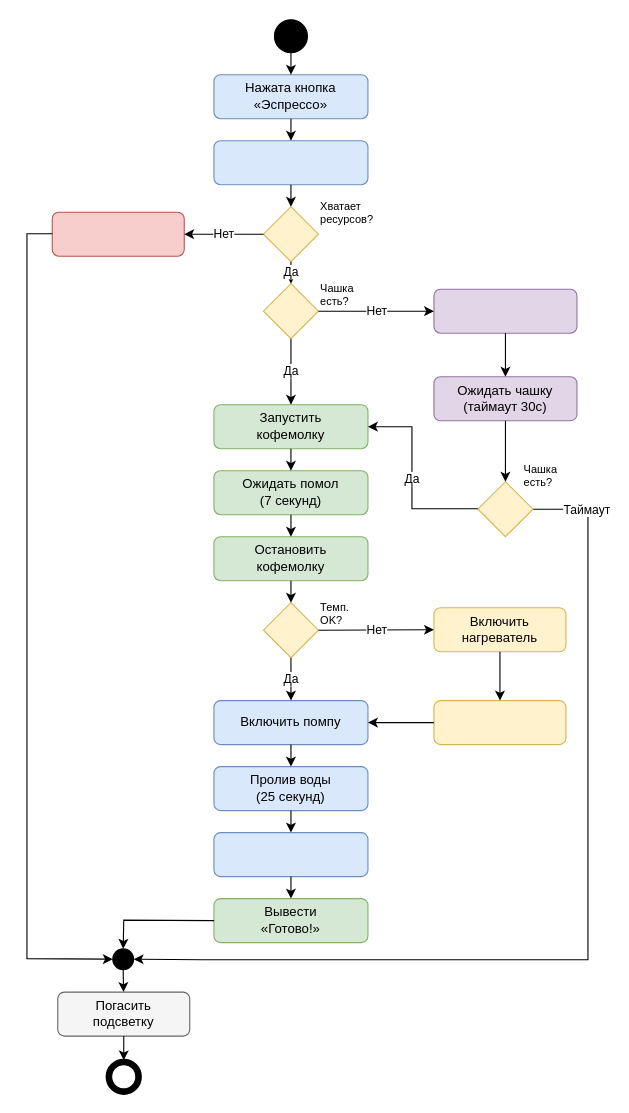
The diagram is 629 pixels wide and 1113 high, and some of its shapes have lost their labels. Each missing label, with the centre of its shape:
"Вывести «Установите чашку»" goes at pixel 505 310.
"Вывести ошибку на дисплей" goes at pixel 117 233.
"Выключить помпу" goes at pixel 290 854.
"Ожидать нагрев" goes at pixel 499 722.
"Подсветить кнопку" goes at pixel 290 162.
